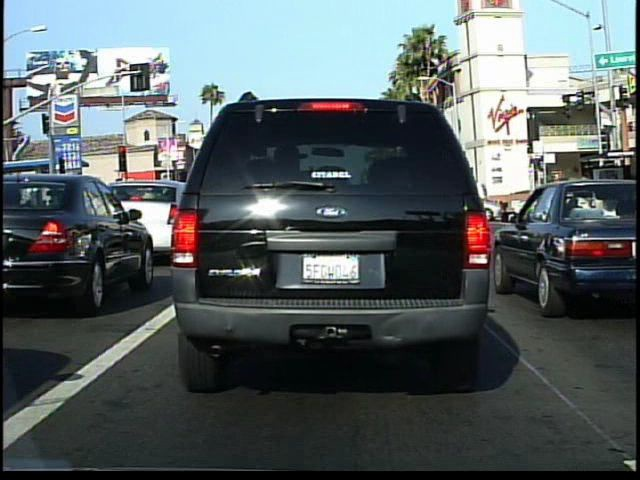person: (585, 172, 609, 228)
